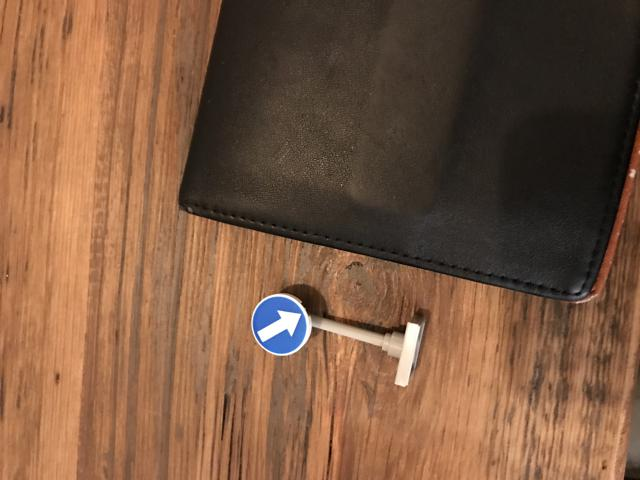fahrtrichtung rechts: (249, 294, 312, 359)
